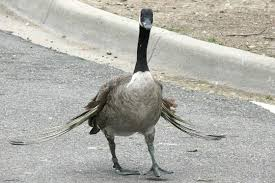goose: (83, 8, 180, 182)
